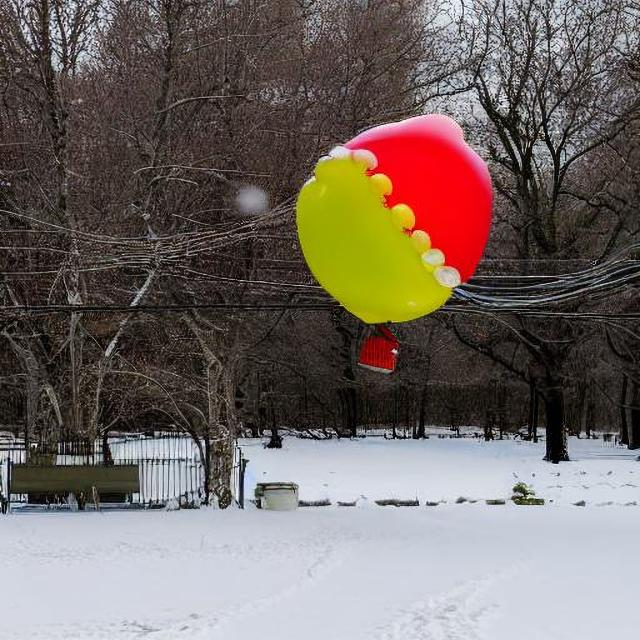balloon: (288, 113, 490, 380)
